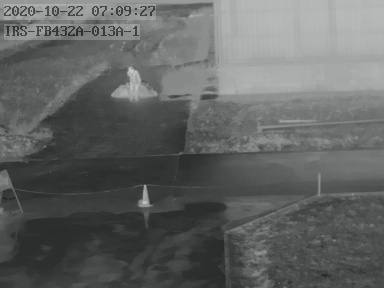person: (126, 64, 141, 100)
